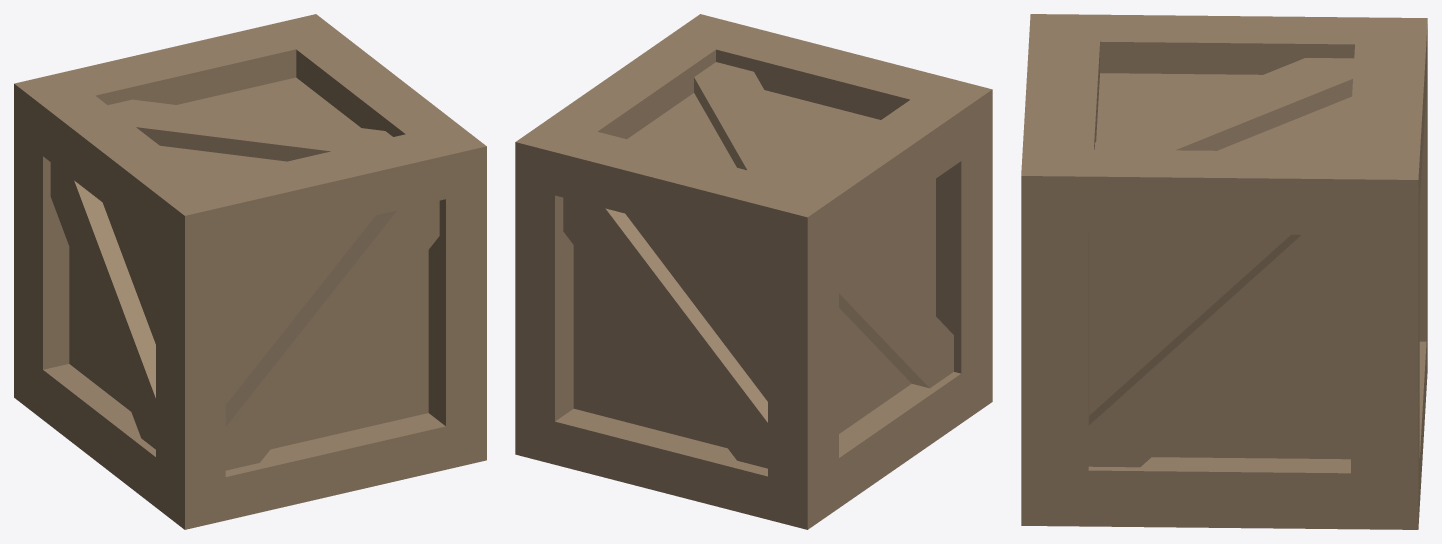
3 renders of one model, left to right at view 1: azimuth 30°, elevation 25°; view 2: azimuth 150°, elevation 25°; view 3: azimuth 270°, elevation 25°, orthographic. The views are drawn at different scales.
Visible parts, largest first — view 1: Cube.014; view 2: Cube.014; view 3: Cube.014.
Part boxes in pixels (bbox=[...]): Cube.014: bbox=[14, 14, 486, 529]; Cube.014: bbox=[515, 14, 992, 529]; Cube.014: bbox=[1021, 14, 1427, 529].
Size of the model in its own units: 82.92 by 81.5 by 85.83.
